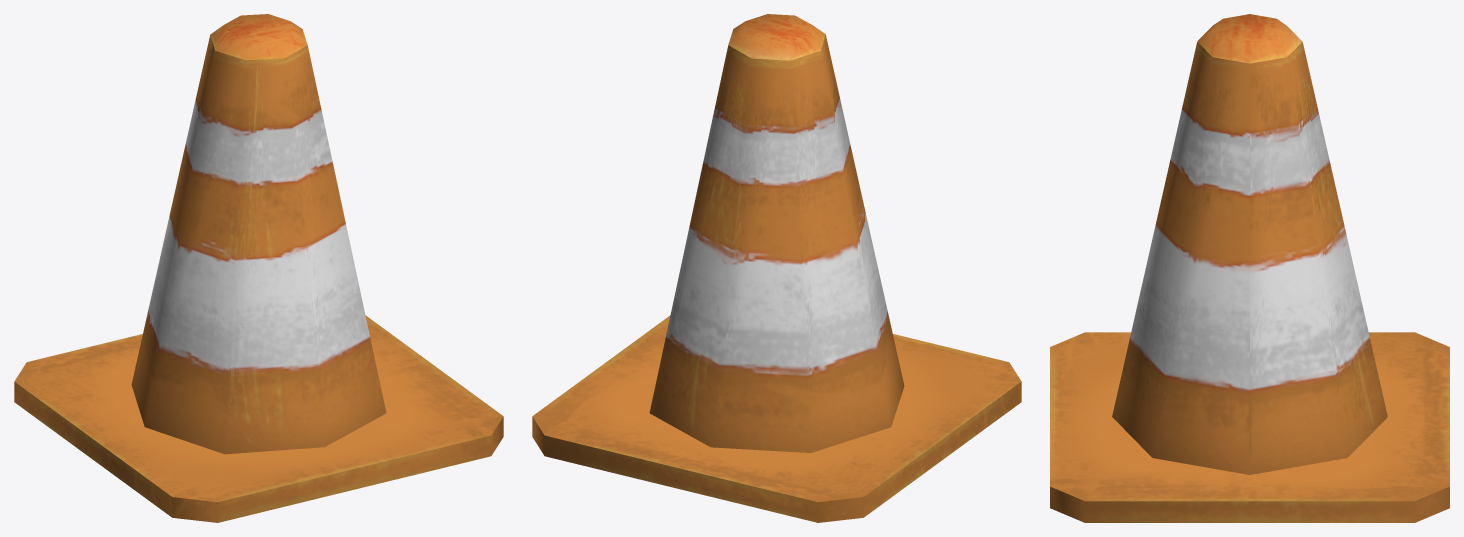
3 renders of one model, left to right at view 1: azimuth 30°, elevation 25°; view 2: azimuth 150°, elevation 25°; view 3: azimuth 270°, elevation 25°, orthographic. The views are drawn at different scales.
Parts seen in each view (by area): view 1: Cylinder001; view 2: Cylinder001; view 3: Cylinder001.
Boxes of the visible parts, left/top/right/bottom form: Cylinder001: left=14, top=14, right=503, bottom=522; Cylinder001: left=532, top=14, right=1021, bottom=522; Cylinder001: left=1050, top=14, right=1449, bottom=522.
Size of the model in its own units: 15 by 16.91 by 15.
Materials: 1 (1 with a texture image).
